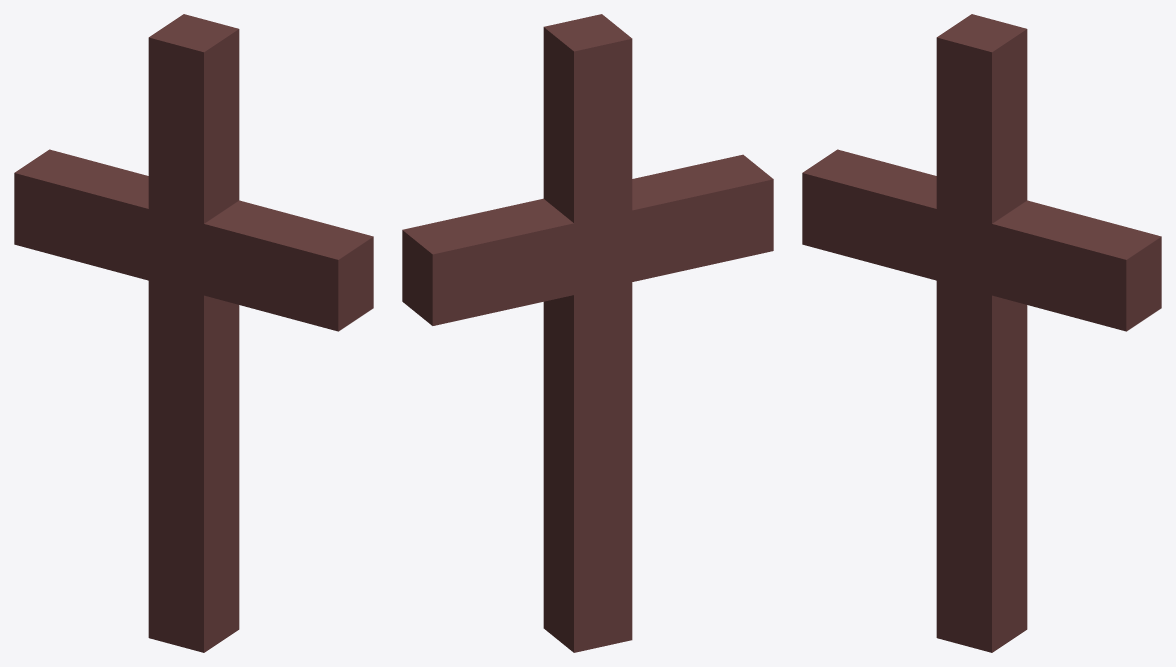
Rendered from Cross by 4444ESOUSA - e8NCiLkLPg.glb.
The picture shows the model from 3 angles, left to right: view 1: azimuth 90°, elevation 25°; view 2: azimuth 150°, elevation 25°; view 3: azimuth 270°, elevation 25°; orthographic projection.
Parts seen in each view (by area): view 1: cross; view 2: cross; view 3: cross.
Part boxes in pixels (x1=…): cross: x1=14, y1=14, x2=373, y2=652; cross: x1=402, y1=14, x2=773, y2=652; cross: x1=802, y1=14, x2=1161, y2=652.
Bounding box in the file's own units: 7.95 × 20.16 × 10.93.
